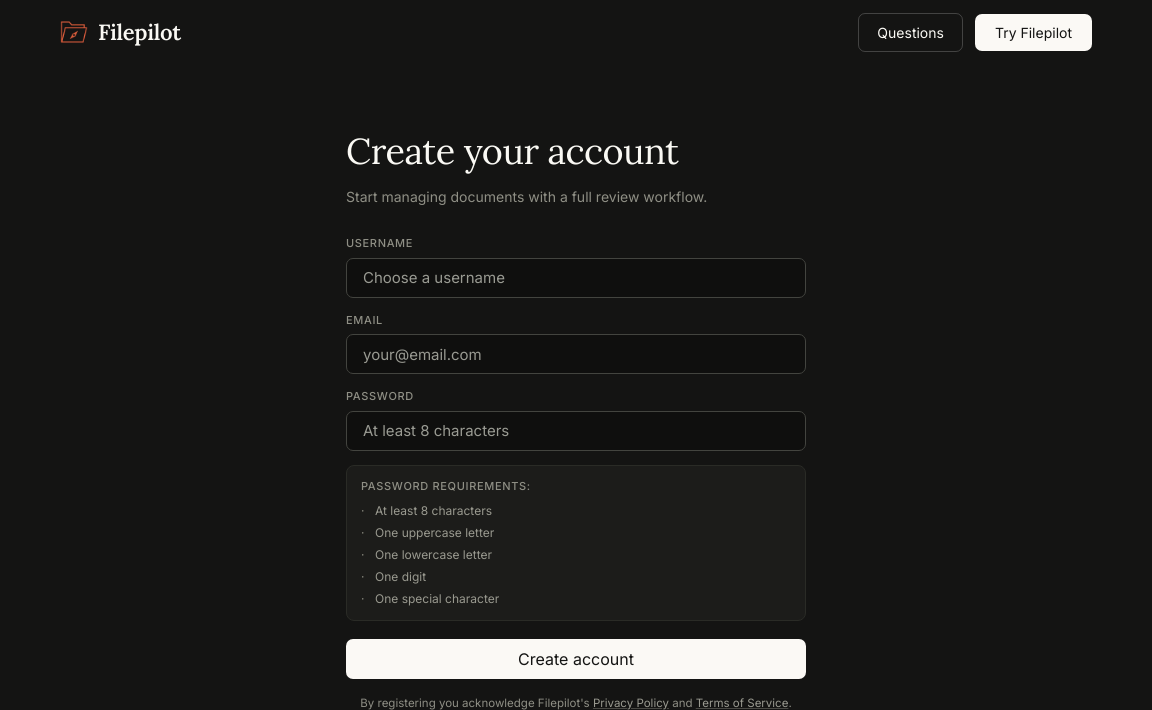
Scenario: RegisterPage – form submission › displays server error message on failure
Type "alice" into the field with placeholder "Choose a username" at [576, 278], box [346,258,806,298]
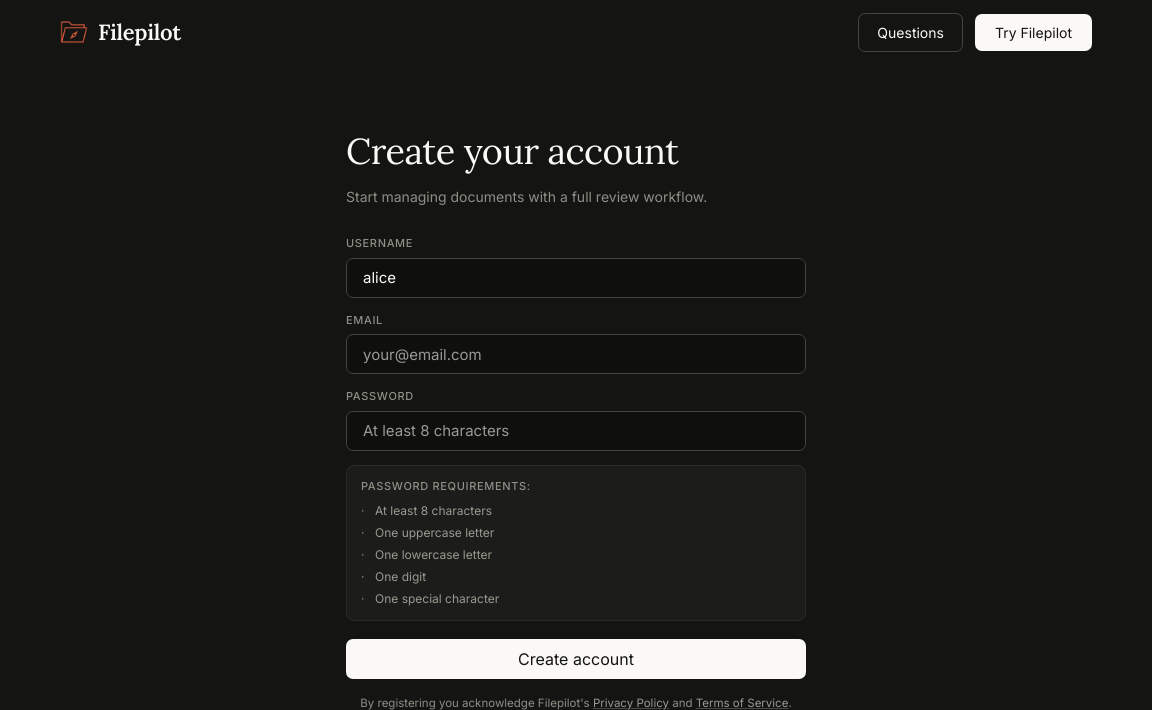
Type "a@b.com" into the field with placeholder "your@email.com" at [576, 354], box [346,334,806,374]
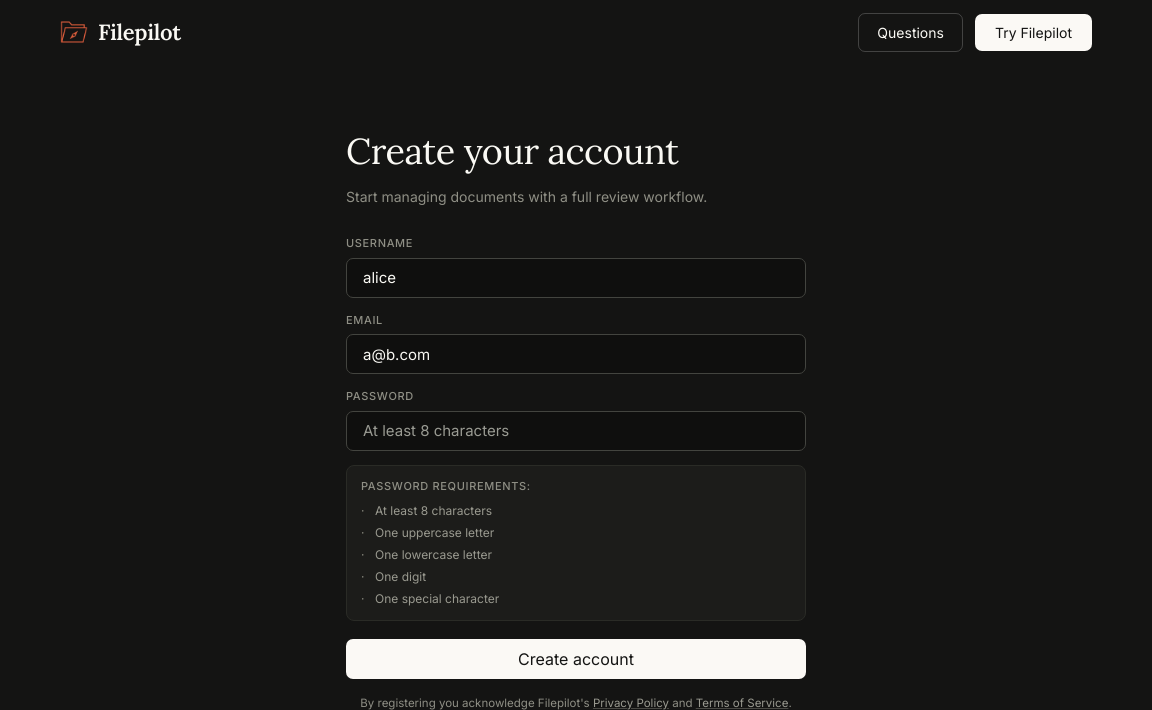
Type "Abcdef1!" into the password field with placeholder "At least 8 characters" at [576, 430], box [346,410,806,450]
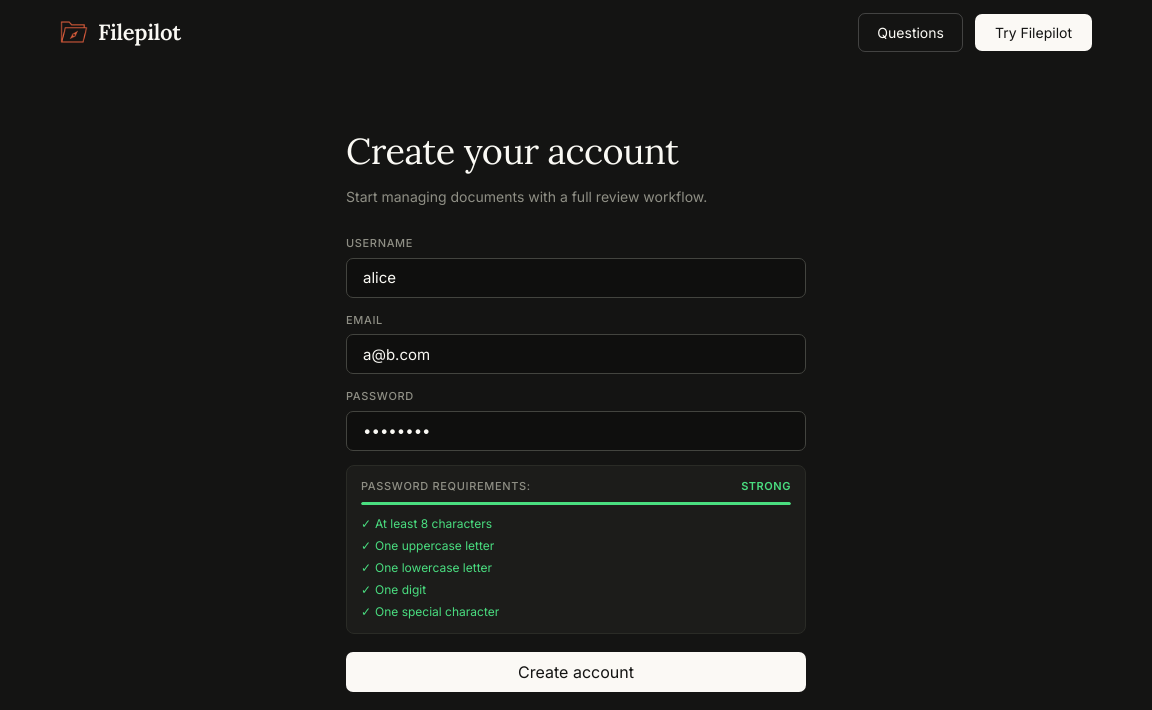
Submit the form named "create account", box [346,235,806,692]
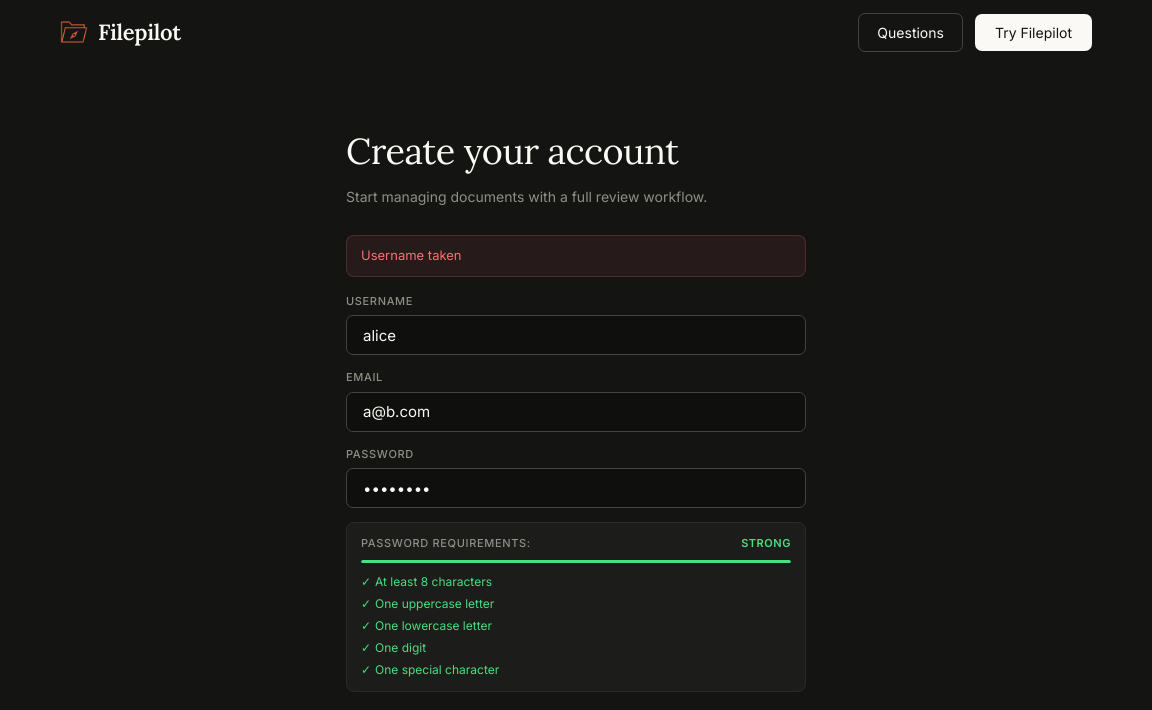
Now the text "Username taken" is shown, box [346,235,806,276]
